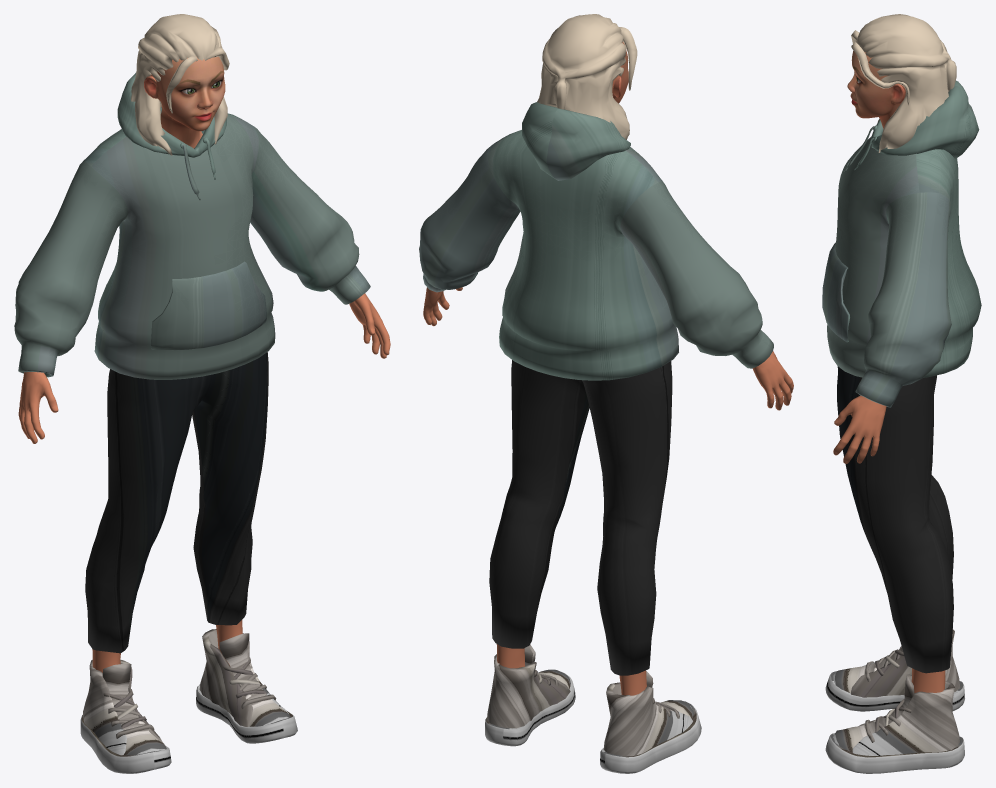
3 renders of one model, left to right at view 1: azimuth 30°, elevation 25°; view 2: azimuth 150°, elevation 25°; view 3: azimuth 270°, elevation 25°, orthographic.
Visible parts, largest first — view 1: Wolf3D_Outfit_Top, Wolf3D_Outfit_Bottom, Wolf3D_Outfit_Footwear, Wolf3D_Hair, Wolf3D_Head, Wolf3D_Body; view 2: Wolf3D_Outfit_Top, Wolf3D_Outfit_Bottom, Wolf3D_Outfit_Footwear, Wolf3D_Hair, Wolf3D_Body; view 3: Wolf3D_Outfit_Top, Wolf3D_Outfit_Bottom, Wolf3D_Outfit_Footwear, Wolf3D_Hair, Wolf3D_Body, Wolf3D_Head.
Boxes of the visible parts, x1,y1,x2,y2 form: Wolf3D_Outfit_Top: (14,72,370,379); Wolf3D_Outfit_Bottom: (85,352,268,653); Wolf3D_Outfit_Footwear: (80,629,297,773); Wolf3D_Hair: (131,14,229,155); Wolf3D_Head: (144,56,225,148); Wolf3D_Body: (18,293,390,672); Wolf3D_Outfit_Top: (419,102,773,380); Wolf3D_Outfit_Bottom: (489,360,672,675); Wolf3D_Outfit_Footwear: (485,644,701,773); Wolf3D_Hair: (537,14,637,139); Wolf3D_Body: (423,287,793,695); Wolf3D_Outfit_Top: (822,80,981,407); Wolf3D_Outfit_Bottom: (837,366,953,673); Wolf3D_Outfit_Footwear: (825,629,964,773); Wolf3D_Hair: (851,14,956,152); Wolf3D_Body: (833,395,945,692); Wolf3D_Head: (847,51,905,128).
Bounding box in the file's own units: 0.9283 × 1.76 × 0.3572.
8 materials, 8 textured.
